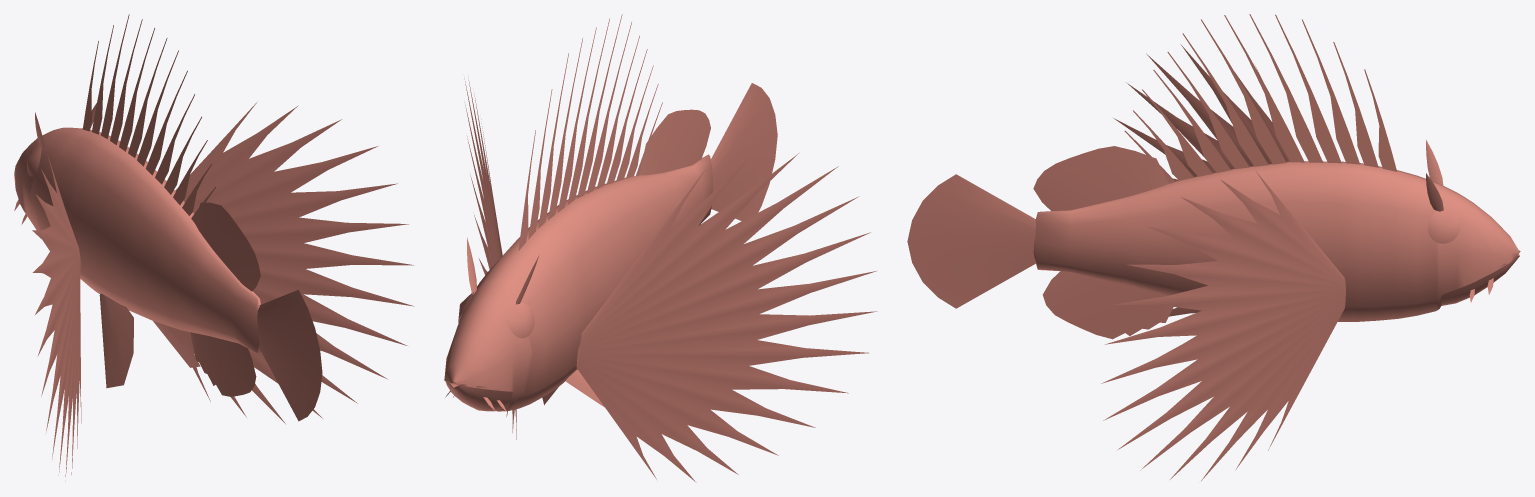
The model's file is lionfish_game.glb.
3 views of the same model, side by side, from view 1: azimuth 30°, elevation 25°; view 2: azimuth 150°, elevation 25°; view 3: azimuth 270°, elevation 25° (orthographic). The views are drawn at different scales.
Parts seen in each view (by area): view 1: lionfish_game; view 2: lionfish_game; view 3: lionfish_game.
Part boxes in pixels (bbox=[...]): lionfish_game: bbox=[14, 14, 413, 481]; lionfish_game: bbox=[444, 14, 877, 482]; lionfish_game: bbox=[907, 14, 1520, 480].
Bounding box in the file's own units: 0.2542 × 0.2607 × 0.3489.
